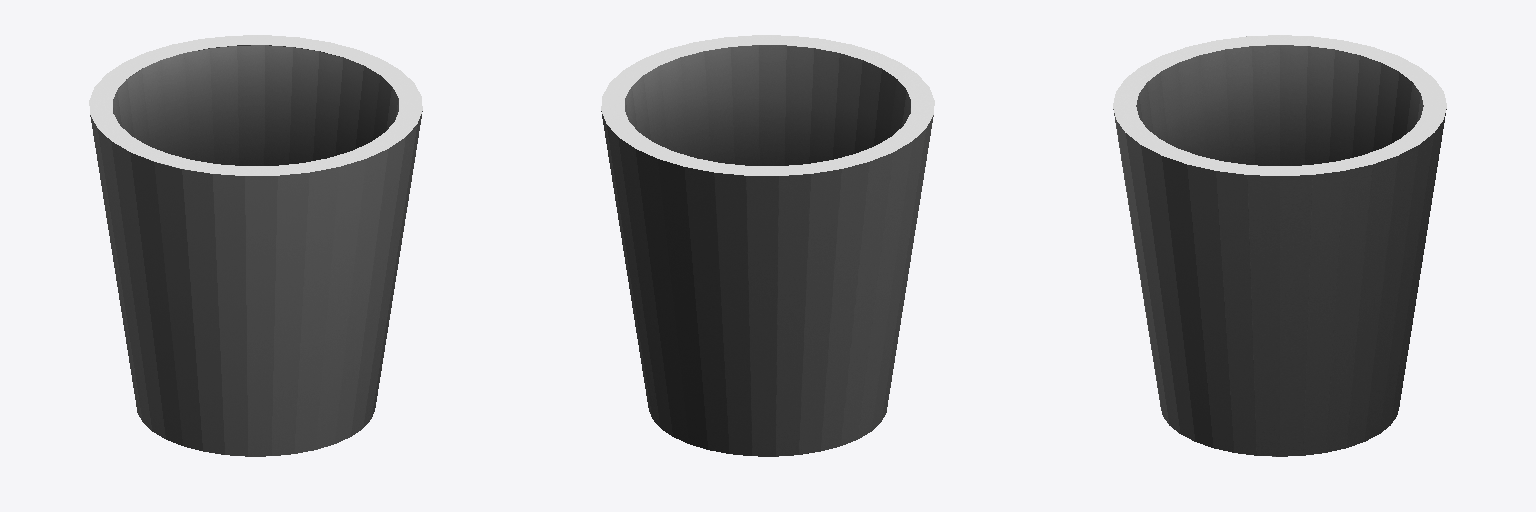
3 views of the same model, side by side, from view 1: azimuth 30°, elevation 25°; view 2: azimuth 150°, elevation 25°; view 3: azimuth 270°, elevation 25° (orthographic).
Visible parts, largest first — view 1: Cylinder.001; view 2: Cylinder.001; view 3: Cylinder.001.
Part boxes in pixels (x1,y1,x2,y2): Cylinder.001: (89, 35, 422, 456); Cylinder.001: (601, 35, 934, 456); Cylinder.001: (1113, 35, 1446, 456).
Bounding box in the file's own units: 0.1403 × 0.1392 × 0.1403.
Materials: 1 (1 with a texture image).